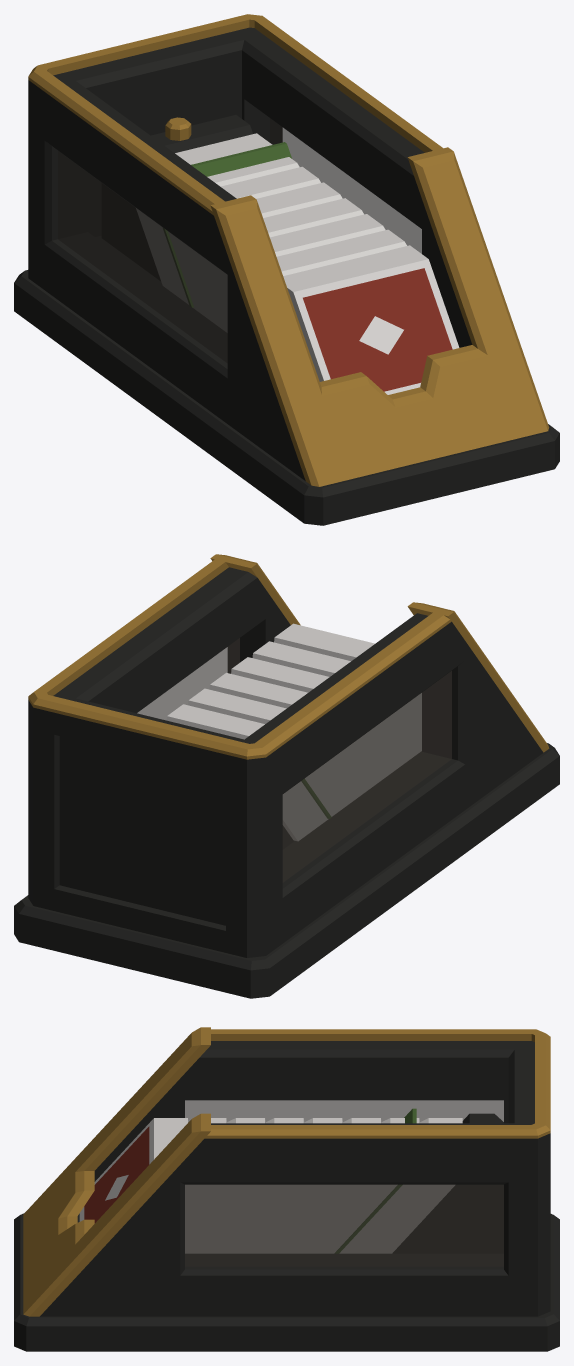
Rendered from card-dealing-shoe-faba37.glb.
3 views of the same model, one above another, from view 1: azimuth 30°, elevation 25°; view 2: azimuth 150°, elevation 25°; view 3: azimuth 270°, elevation 25° (orthographic). The views are drawn at different scales.
Parts seen in each view (by area): view 1: body, cards-mesh, windows, pusher-mesh, cut-card-mesh; view 2: body, cards-mesh, windows; view 3: body, windows, cards-mesh, pusher-mesh, cut-card-mesh.
Part boxes in pixels (x1,y1,x2,y2): body: (14,14,559,525); cards-mesh: (136,133,459,394); windows: (58,118,421,362); pusher-mesh: (102,115,252,280); cut-card-mesh: (163,142,291,307); body: (14,554,559,998); cards-mesh: (166,623,421,840); windows: (137,638,451,882); body: (14,1027,559,1351); windows: (185,1100,503,1266); cards-mesh: (79,1118,462,1253); pusher-mesh: (393,1113,503,1253); cut-card-mesh: (335,1108,416,1253).
Bounding box in the file's own units: 0.17 × 0.153 × 0.35.
